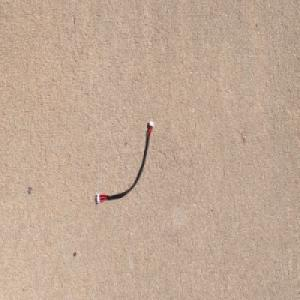Wire: (96, 119, 155, 204)
